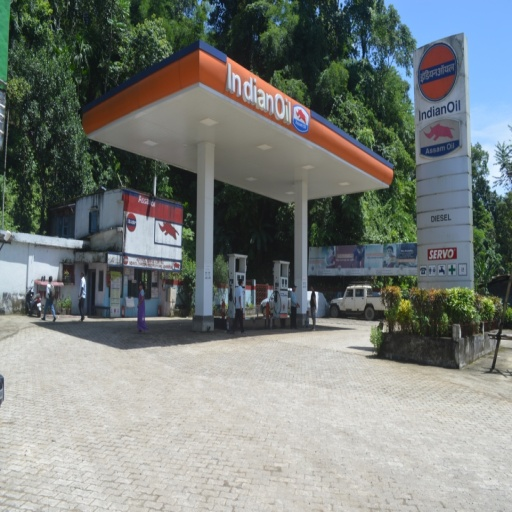roof: (85, 44, 391, 201)
